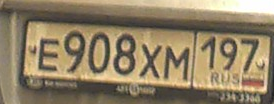character: (164, 42, 191, 84), (62, 29, 85, 77), (89, 31, 111, 77), (114, 32, 135, 76), (140, 43, 163, 82), (37, 37, 59, 74), (239, 36, 260, 72), (220, 36, 239, 74), (200, 34, 218, 72)
